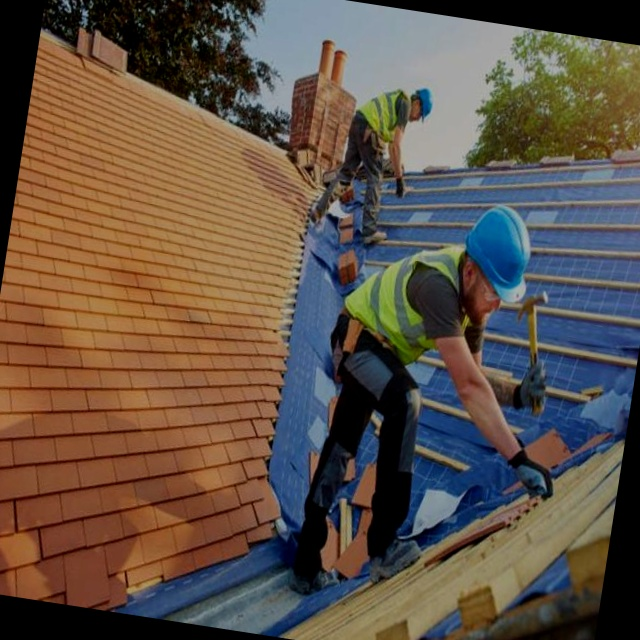goggles: (138, 244, 177, 286)
helmet: (116, 177, 192, 288), (240, 72, 260, 114)
vest: (188, 226, 304, 358), (270, 79, 312, 132)
